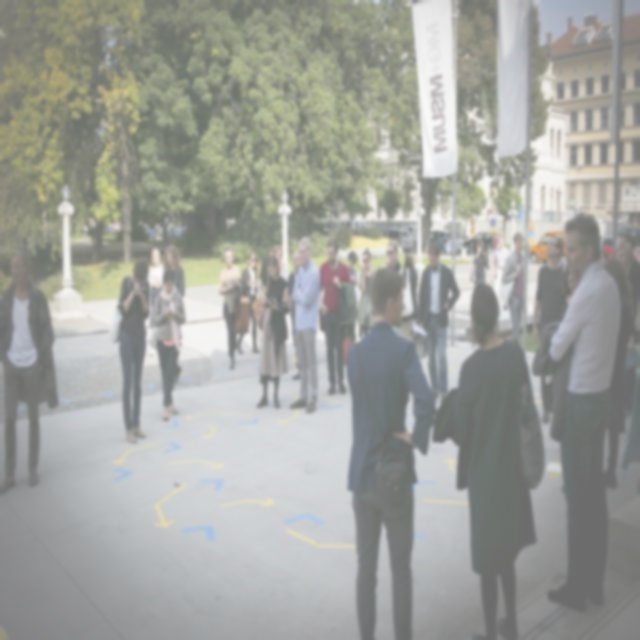pessoa: (430, 278, 548, 638), (342, 264, 437, 639), (544, 204, 626, 622), (0, 243, 59, 500), (602, 255, 636, 492), (416, 240, 462, 408), (114, 256, 152, 447), (149, 265, 188, 425), (254, 252, 293, 412), (288, 234, 321, 416), (317, 236, 354, 396), (156, 242, 186, 386), (530, 234, 568, 342), (499, 229, 528, 356), (622, 262, 639, 478), (216, 244, 244, 372), (236, 250, 262, 356), (286, 248, 304, 382), (356, 246, 378, 342), (346, 250, 363, 346), (601, 227, 639, 266), (400, 250, 420, 324), (491, 233, 511, 304), (557, 264, 580, 323), (468, 237, 494, 287), (146, 247, 164, 310), (381, 238, 406, 278), (268, 240, 284, 278), (430, 230, 449, 256)
